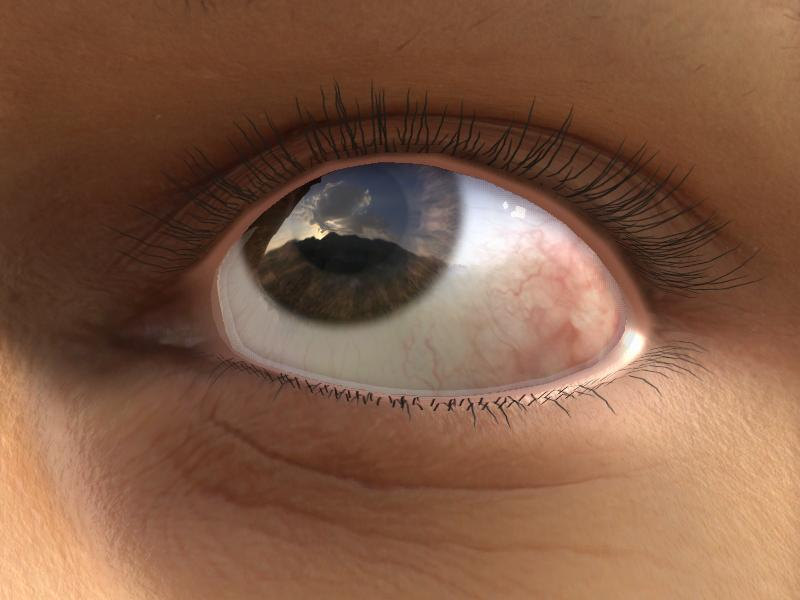eye: (243, 165, 462, 325)
